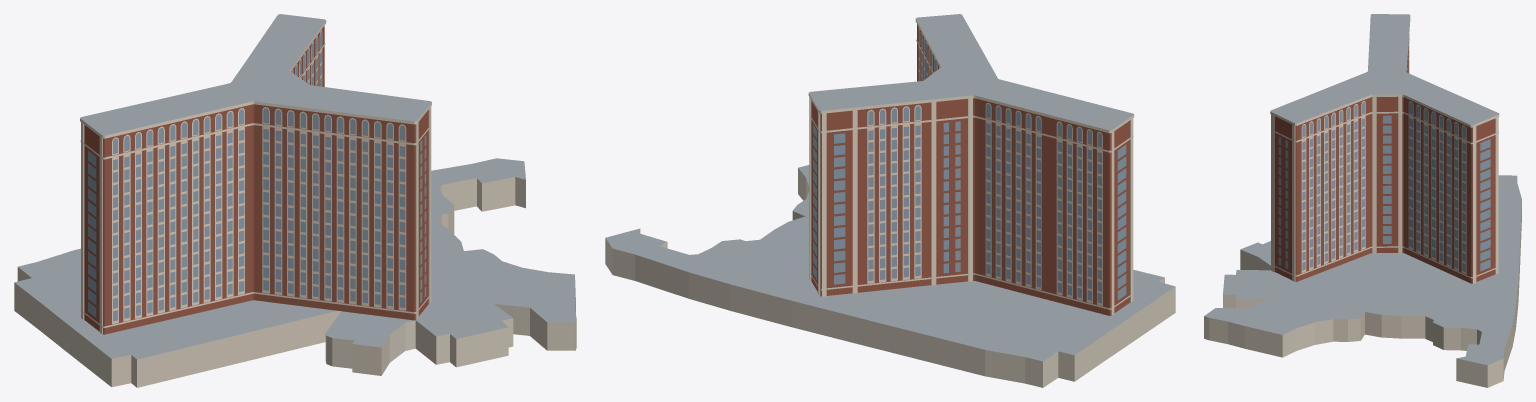
The model's file is lv-treasure-island.glb.
3 renders of one model, left to right at view 1: azimuth 30°, elevation 25°; view 2: azimuth 150°, elevation 25°; view 3: azimuth 270°, elevation 25°, orthographic. The views are drawn at different scales.
Parts seen in each view (by area): view 1: Treasure Island; view 2: Treasure Island; view 3: Treasure Island.
Boxes of the visible parts, bbox=[...] form: Treasure Island: bbox=[14, 14, 576, 387]; Treasure Island: bbox=[605, 14, 1175, 387]; Treasure Island: bbox=[1204, 14, 1521, 387].
Bounding box in the file's own units: 264 × 112 × 178.
